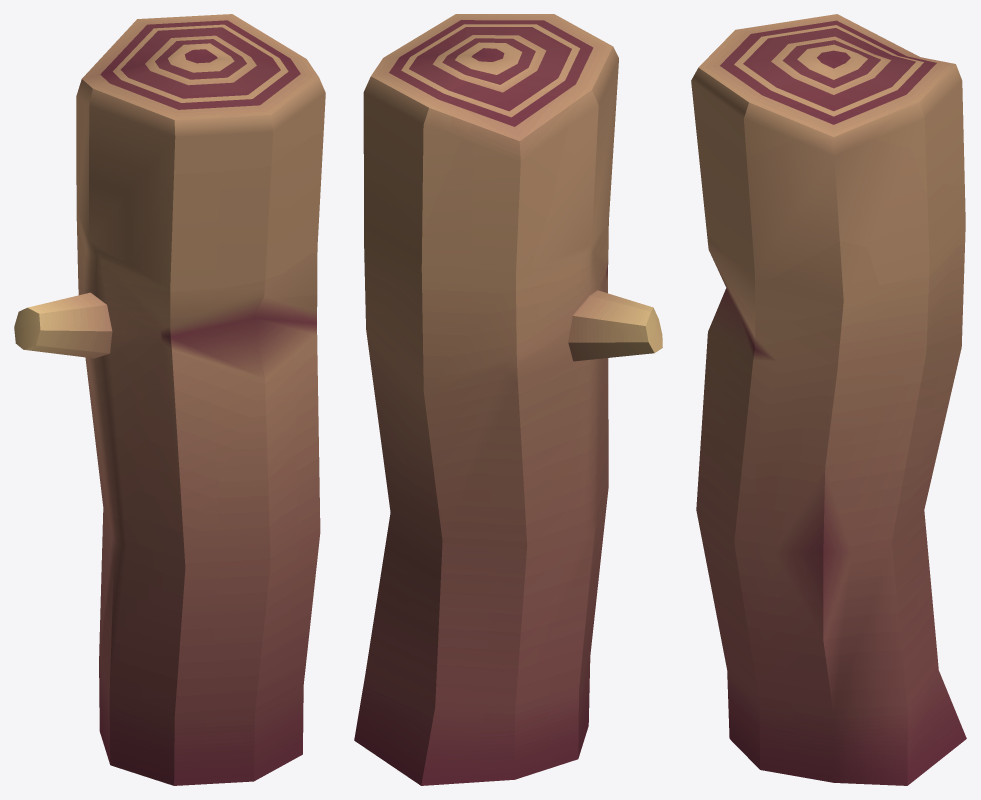
Rendered from FencePost.fbx.
3 renders of one model, left to right at view 1: azimuth 30°, elevation 25°; view 2: azimuth 150°, elevation 25°; view 3: azimuth 270°, elevation 25°, orthographic.
Parts seen in each view (by area): view 1: FencePost; view 2: FencePost; view 3: FencePost.
Boxes of the visible parts, left/top/right/bottom form: FencePost: left=14, top=14, right=325, bottom=785; FencePost: left=354, top=14, right=662, bottom=785; FencePost: left=691, top=14, right=966, bottom=785.
Bounding box in the file's own units: 0.2568 × 0.5839 × 0.2144.
